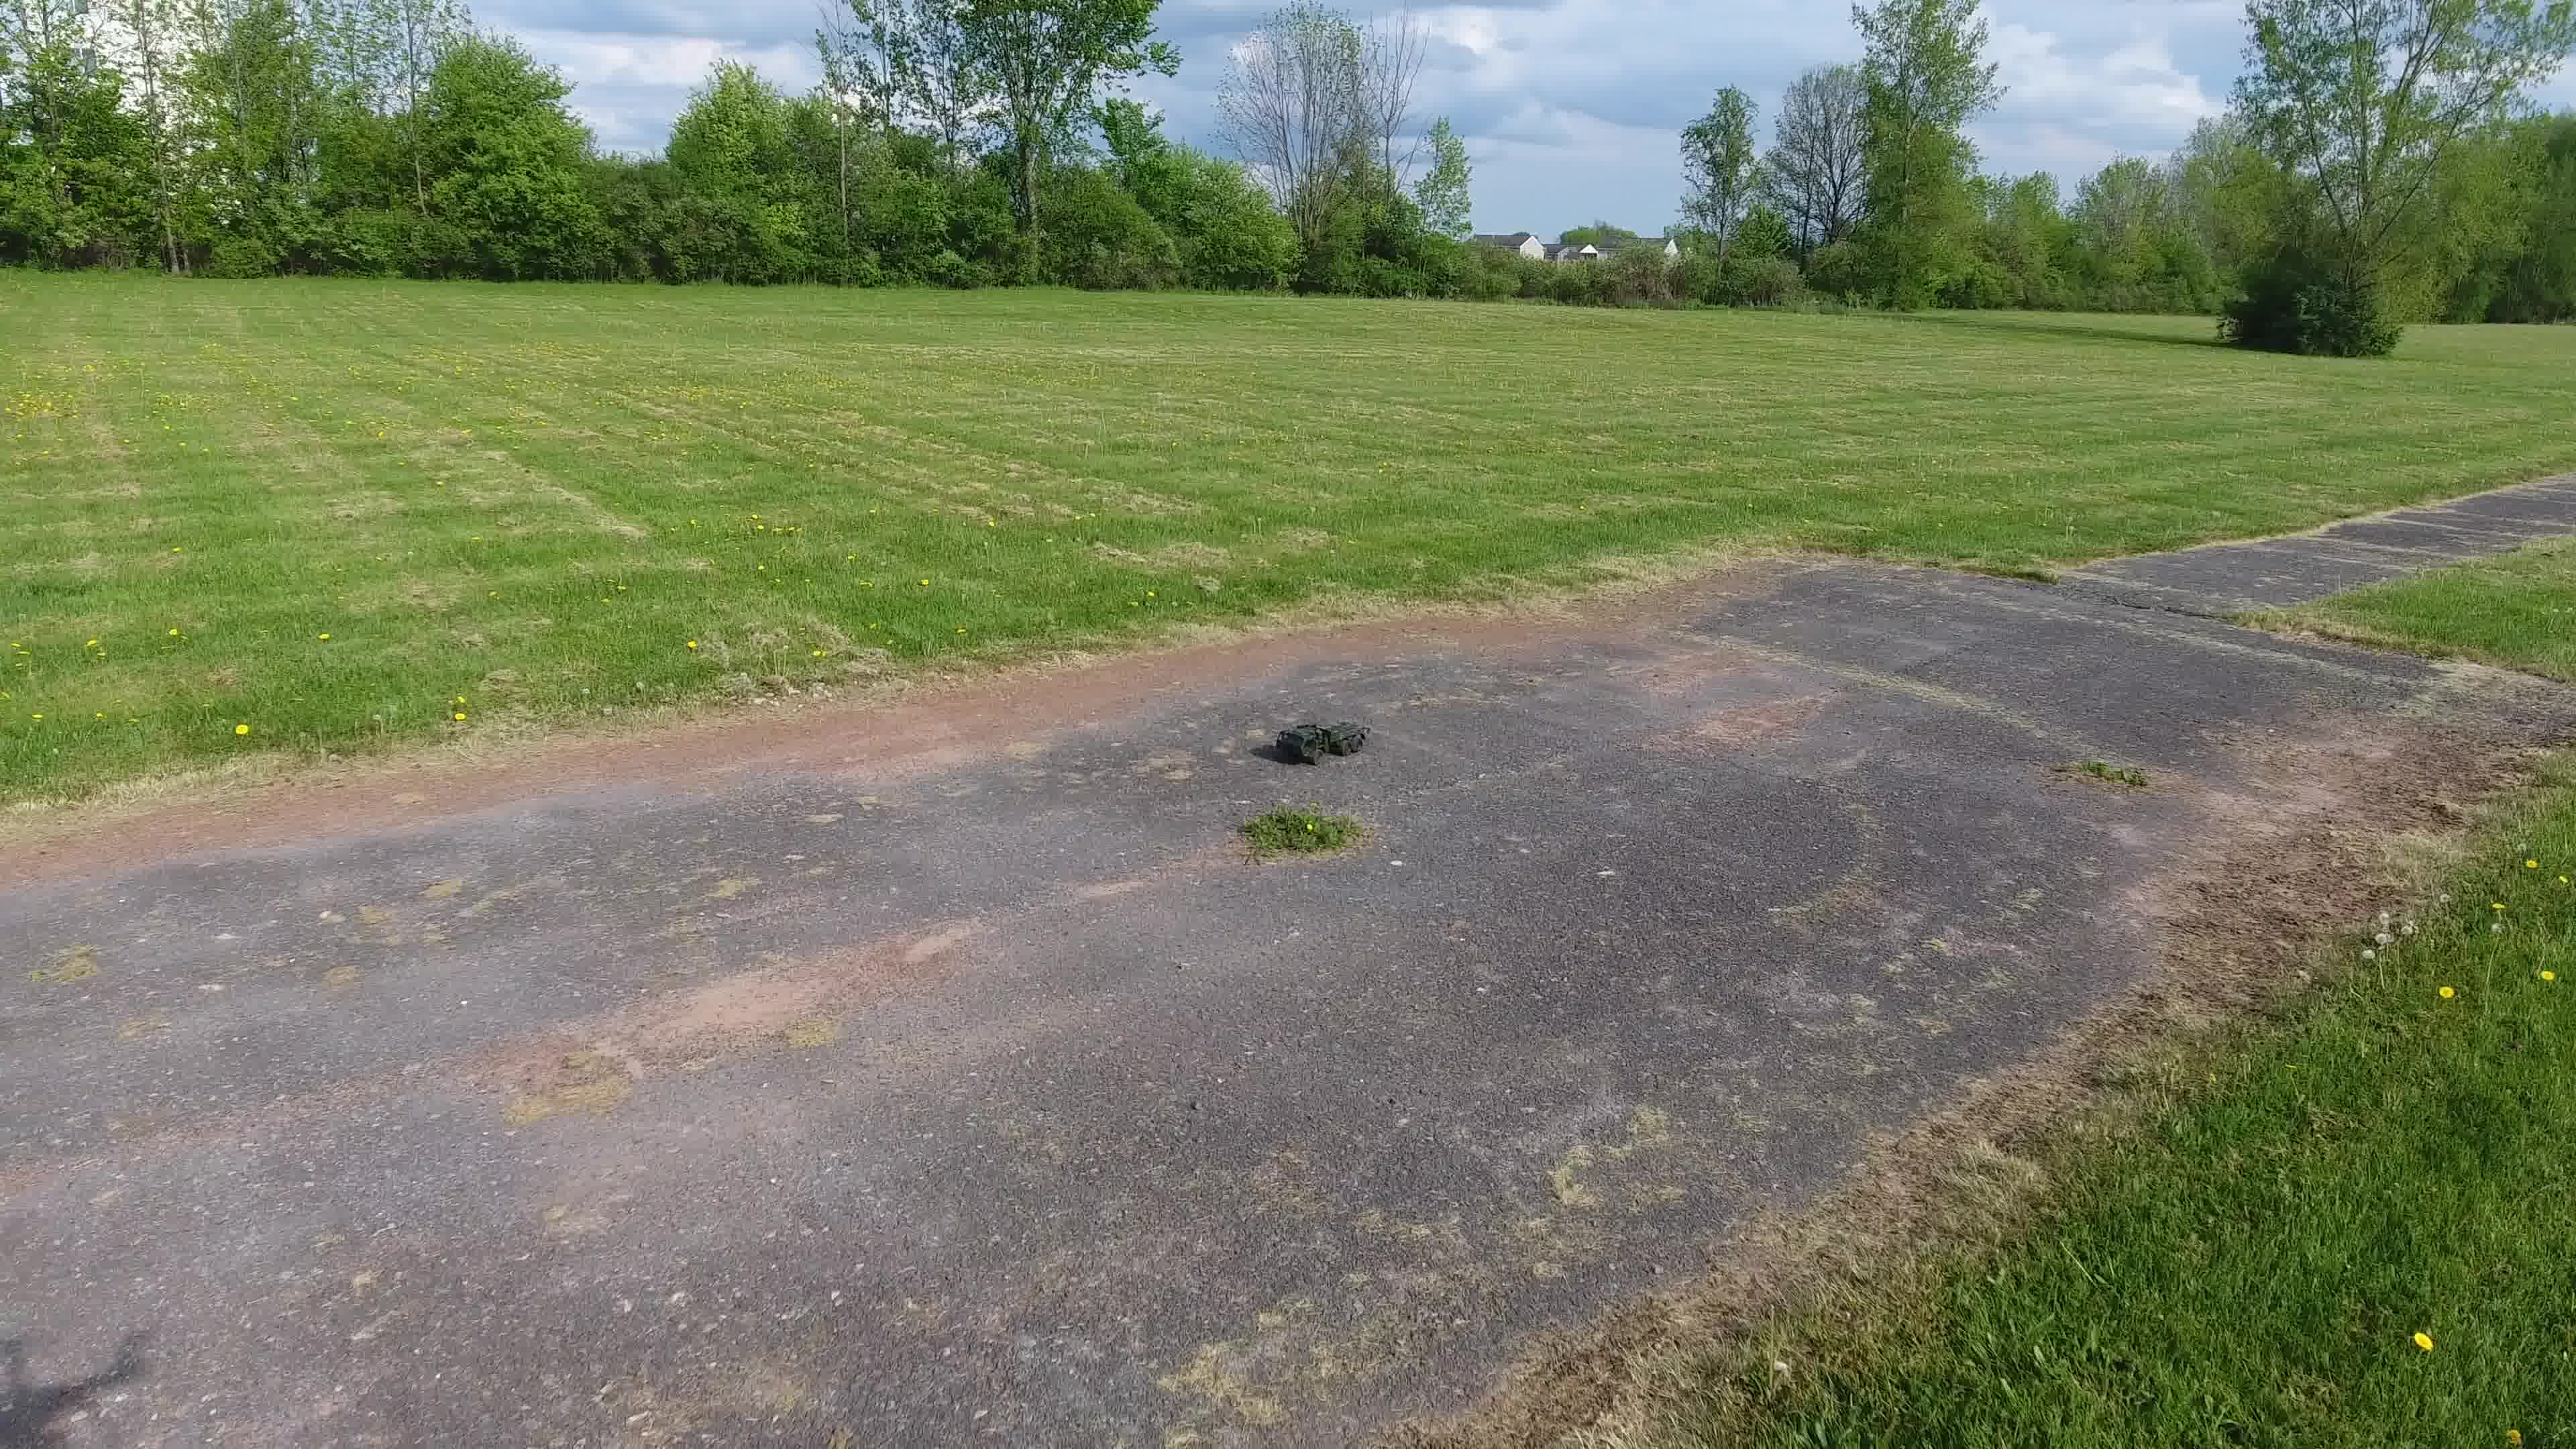transporter9_camo: (1272, 715, 1373, 768)
